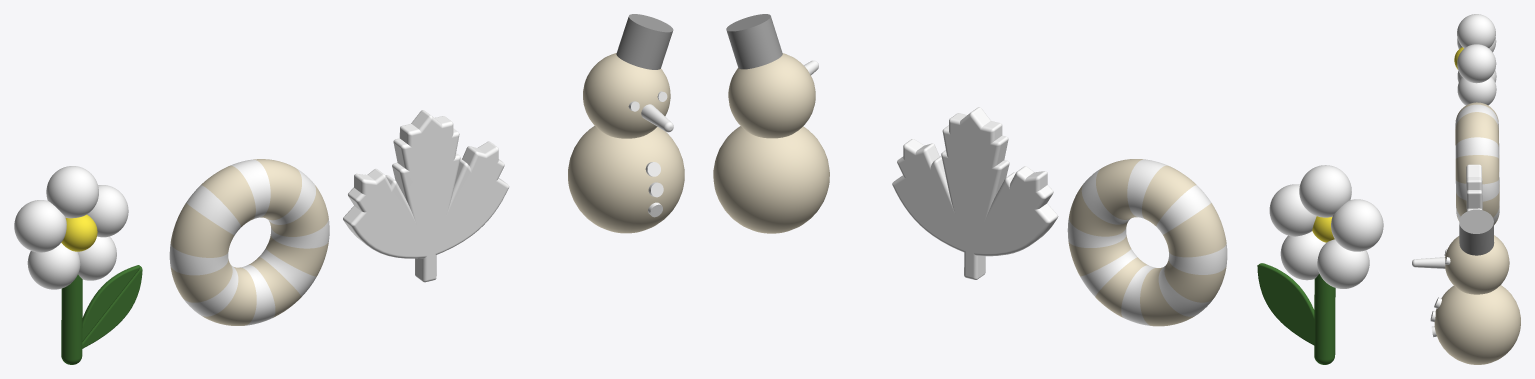
File: ele.glb
3 views of the same model, side by side, from view 1: azimuth 30°, elevation 25°; view 2: azimuth 150°, elevation 25°; view 3: azimuth 270°, elevation 25° (orthographic). The views are drawn at different scales.
Parts seen in each view (by area): view 1: Body25, Body27, Body1, Body28, Body23, Body6, Body3, Body7, Body11, Body13, Body22, Body5 (+14 smaller); view 2: Body25, Body27, Body1, Body28, Body23, Body6, Body3, Body7, Body11, Body13, Body5, Body4 (+13 smaller); view 3: Body27, Body28, Body5, Body3, Body13, Body15, Body4, Body25, Body12, Body14, Body18, Body29 (+2 smaller).
Boxes of the visible parts, bbox=[...] form: Body25: bbox=[343, 110, 509, 282]; Body27: bbox=[568, 53, 684, 233]; Body1: bbox=[61, 265, 142, 364]; Body28: bbox=[616, 14, 673, 69]; Body23: bbox=[170, 203, 234, 257]; Body6: bbox=[14, 200, 66, 252]; Body3: bbox=[46, 166, 98, 218]; Body7: bbox=[27, 243, 80, 289]; Body11: bbox=[201, 165, 255, 226]; Body13: bbox=[253, 159, 301, 220]; Body22: bbox=[201, 267, 256, 325]; Body5: bbox=[87, 185, 128, 237]; Body25: bbox=[892, 107, 1058, 279]; Body27: bbox=[713, 53, 829, 233]; Body1: bbox=[1257, 263, 1335, 364]; Body28: bbox=[726, 14, 782, 69]; Body23: bbox=[1163, 203, 1226, 257]; Body6: bbox=[1331, 199, 1383, 251]; Body3: bbox=[1299, 165, 1351, 217]; Body7: bbox=[1317, 239, 1369, 288]; Body11: bbox=[1142, 165, 1196, 226]; Body13: bbox=[1096, 159, 1143, 219]; Body5: bbox=[1269, 184, 1316, 236]; Body4: bbox=[1280, 231, 1325, 280]; Body27: bbox=[1434, 235, 1520, 364]; Body28: bbox=[1459, 209, 1494, 255]; Body5: bbox=[1457, 44, 1496, 83]; Body3: bbox=[1457, 14, 1495, 48]; Body13: bbox=[1455, 112, 1498, 146]; Body15: bbox=[1455, 155, 1498, 184]; Body4: bbox=[1457, 76, 1496, 105]; Body25: bbox=[1466, 164, 1482, 211]; Body12: bbox=[1455, 137, 1498, 158]; Body14: bbox=[1455, 180, 1499, 201]; Body18: bbox=[1456, 192, 1499, 217]; Body29: bbox=[1412, 257, 1445, 268].
Size of the model in its own units: 0.2602 by 0.0788 by 0.0502.
